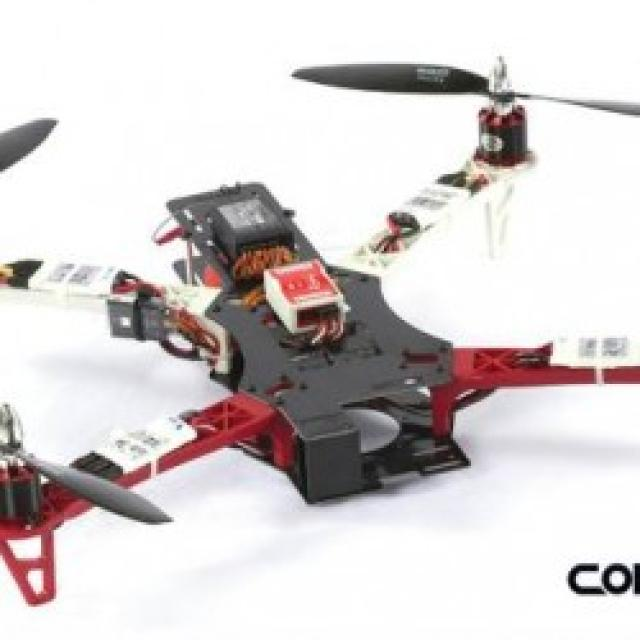drone: (2, 69, 640, 535)
